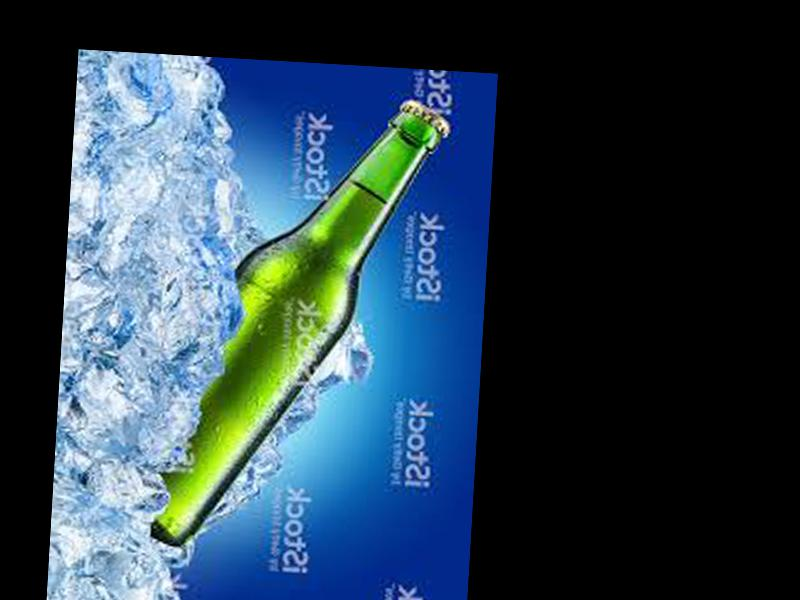Beer: (149, 81, 453, 562)
